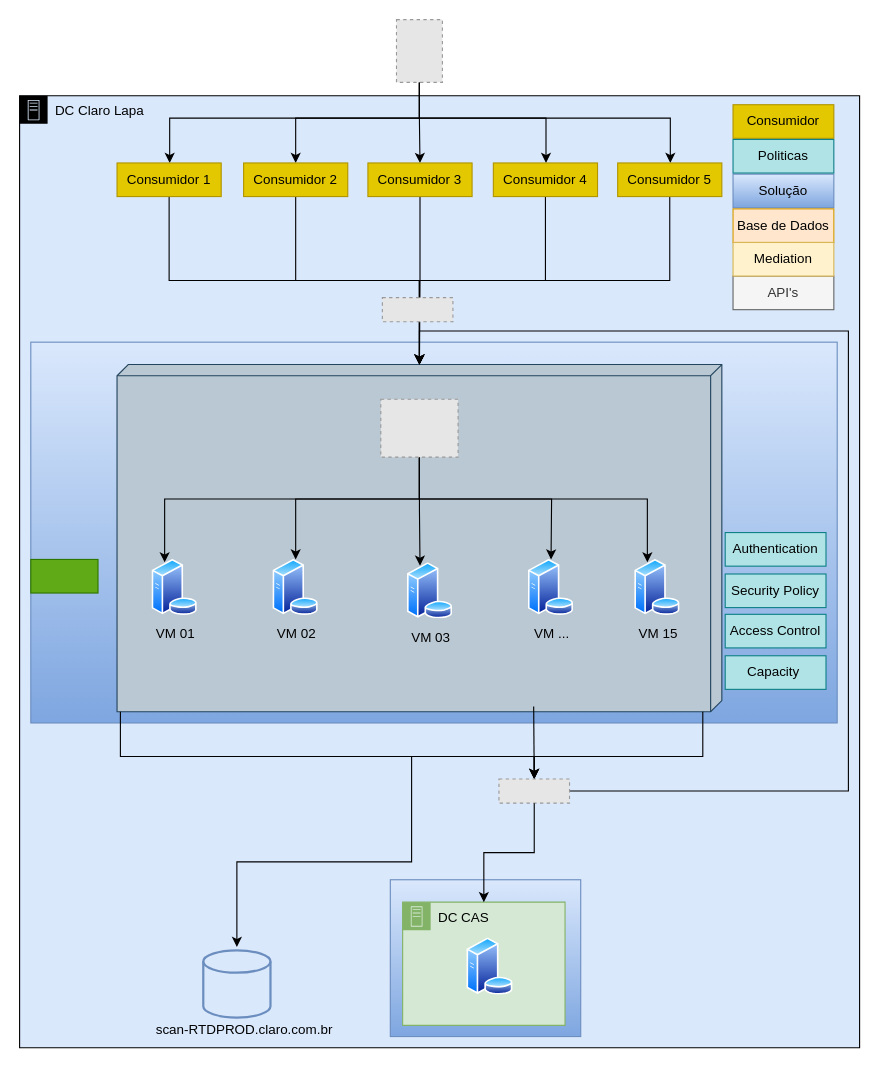
Some shapes in this 879 by 1067 pixel diagram are drawn without their labels. Grey dashed boxes stand in for pictures. The shapes that lost their labels are listed below. From the top down, each one's centre as x and y in pixels, then its label:
At (x=64, y=575): "Prod".
At (x=236, y=983): "BD Exacc RTDPROD".
At (x=489, y=966): "MSE".
